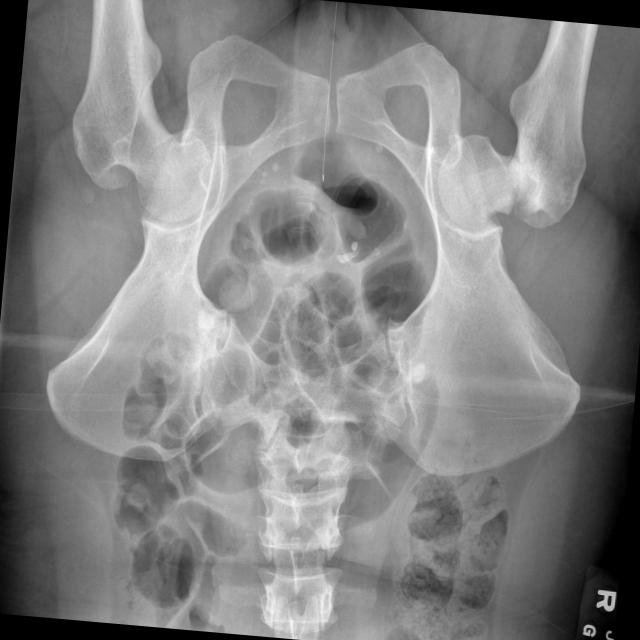normal-left: (71, 0, 210, 222)
right-neck: (508, 19, 598, 228), (435, 133, 517, 228)
